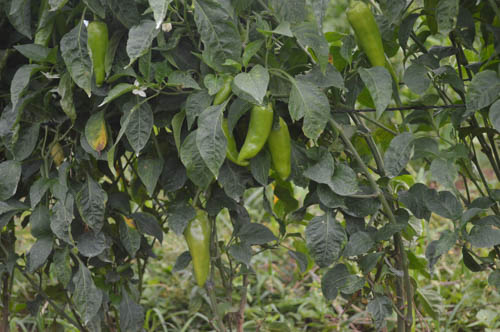ChiliPepper: (348, 5, 385, 78), (186, 212, 213, 290), (239, 101, 271, 166), (211, 118, 247, 171), (271, 118, 292, 182), (87, 23, 108, 84)
